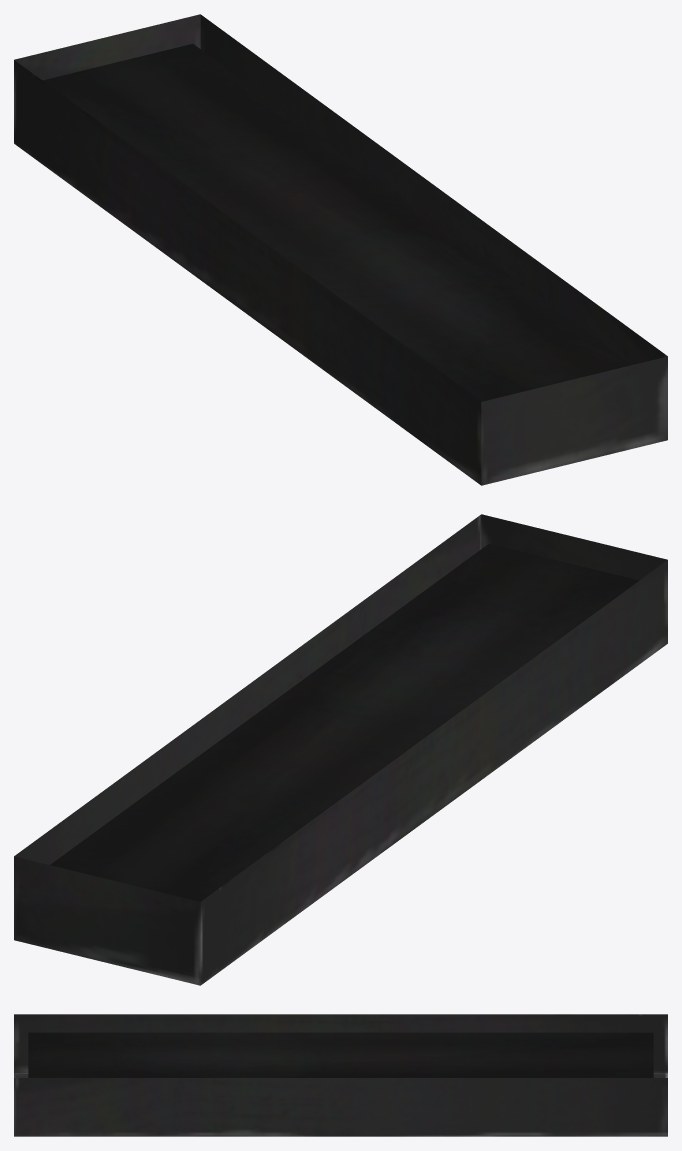
The model's file is Lights.fbx.
3 renders of one model, top to bottom at view 1: azimuth 30°, elevation 25°; view 2: azimuth 150°, elevation 25°; view 3: azimuth 270°, elevation 25°, orthographic. The views are drawn at different scales.
Visible parts, largest first — view 1: neon|neon_L_neon.blend|Dupli|; view 2: neon|neon_L_neon.blend|Dupli|; view 3: neon|neon_L_neon.blend|Dupli|.
Part boxes in pixels (box(x1,y1,x2,y2)): neon|neon_L_neon.blend|Dupli|: box(14, 14, 667, 485); neon|neon_L_neon.blend|Dupli|: box(14, 514, 667, 985); neon|neon_L_neon.blend|Dupli|: box(14, 1014, 667, 1136).
Bounding box in the file's own units: 30.95 × 13.29 × 134.
